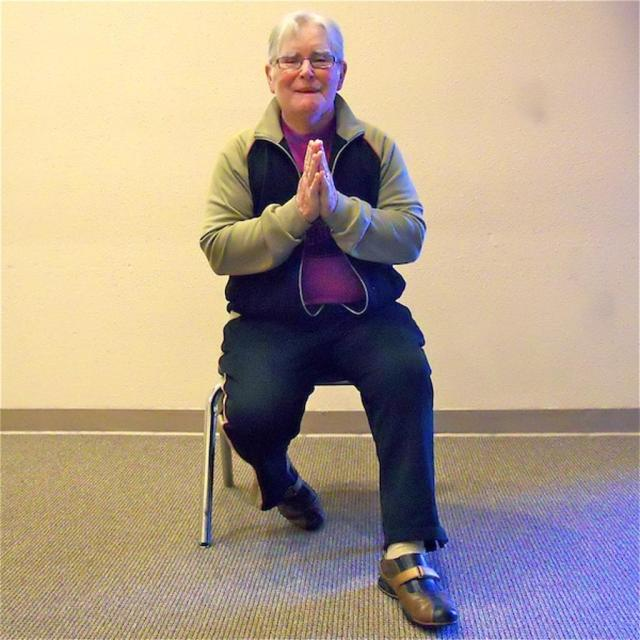Face: (251, 19, 354, 127)
